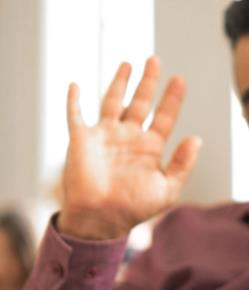down: (59, 55, 207, 213)
